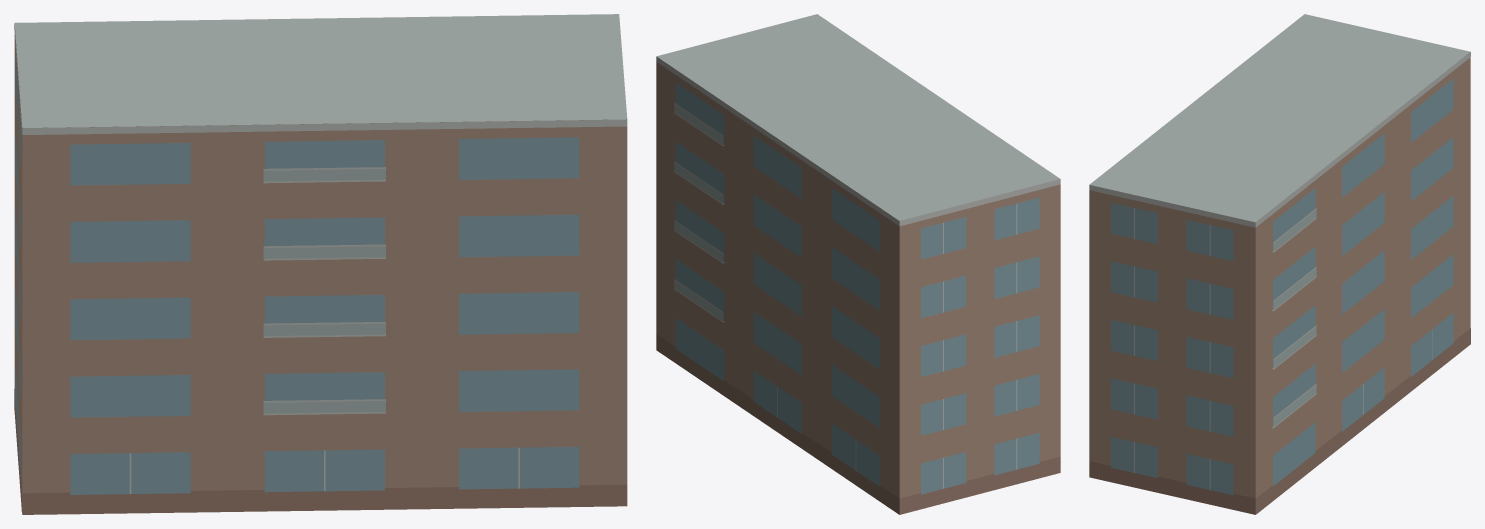
Rendered from survey-upis-32659028.glb.
3 views of the same model, side by side, from view 1: azimuth 30°, elevation 25°; view 2: azimuth 150°, elevation 25°; view 3: azimuth 270°, elevation 25° (orthographic). The views are drawn at different scales.
Parts seen in each view (by area): view 1: survey-upis-32659028.tmp; view 2: survey-upis-32659028.tmp; view 3: survey-upis-32659028.tmp.
Part boxes in pixels (x1,y1,x2,y2): survey-upis-32659028.tmp: [14, 14, 627, 514]; survey-upis-32659028.tmp: [656, 14, 1060, 514]; survey-upis-32659028.tmp: [1089, 14, 1470, 514].
Size of the model in its own units: 20.48 by 13.4 by 15.85.
